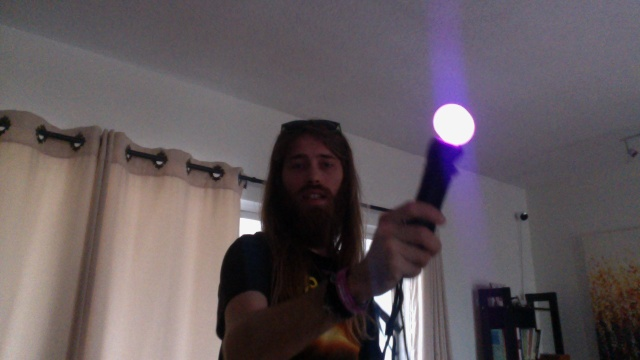wand: (434, 103, 476, 146)
